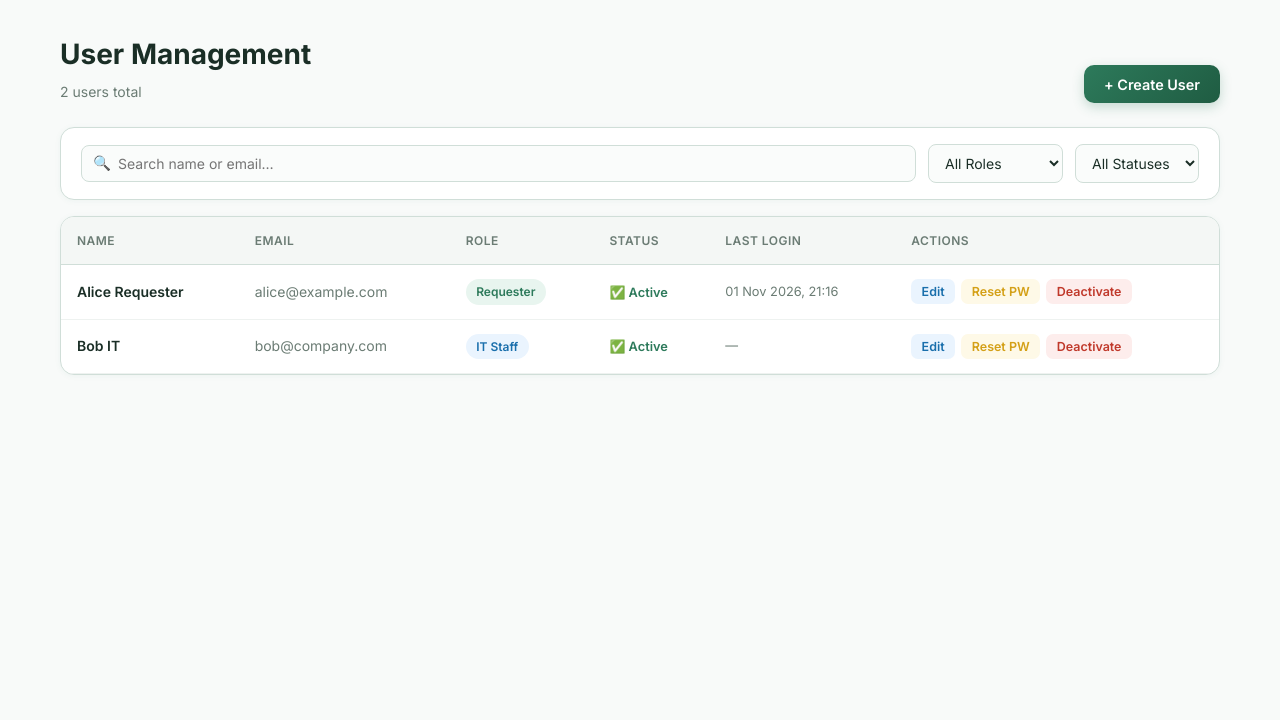
AdminUsersPage (UI-10..UI-12) › UI-12: clicking Deactivate opens the confirmation modal
The width and height of the screenshot is (1280, 720).
Expected: the text "Alice Requester" is shown, [77, 282, 184, 300]
Click the button "Deactivate" in the row of "Alice Requester": {"x": 1089, "y": 292} [1046, 280, 1132, 304]
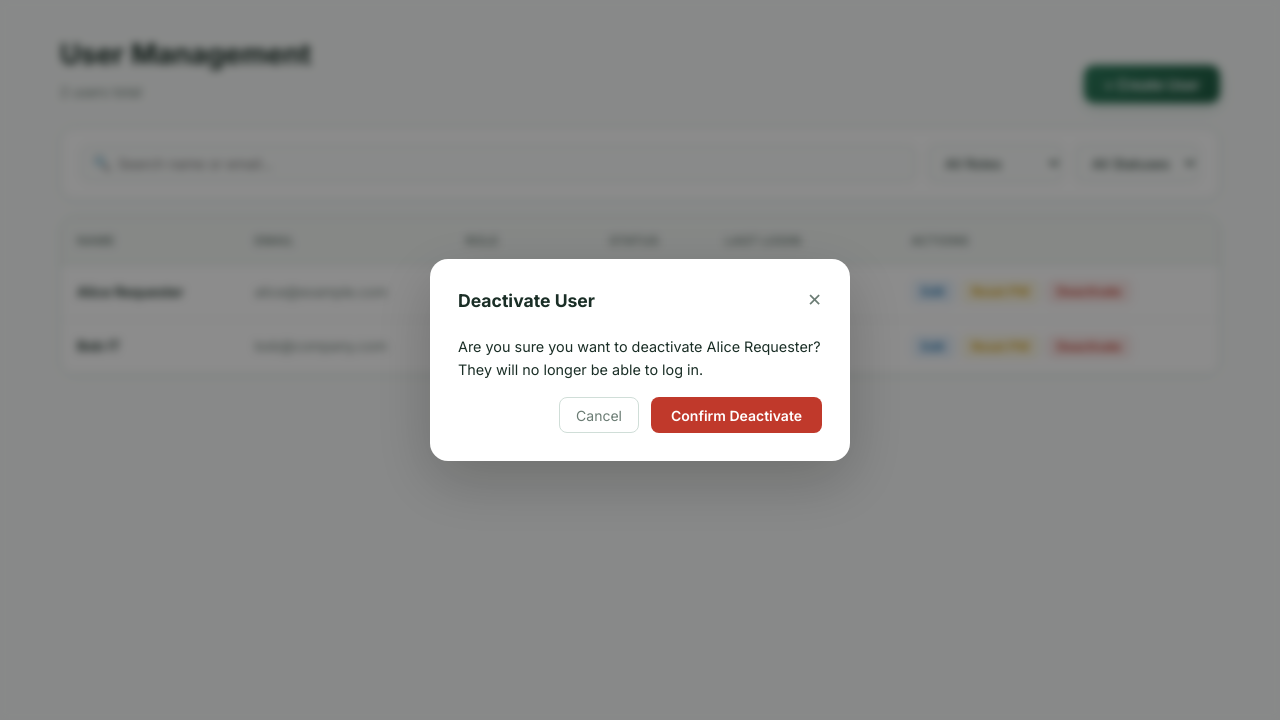
Expected: the heading "Deactivate User" is shown, [458, 287, 595, 315]
Expected: the button "Confirm Deactivate" is shown, [651, 397, 822, 433]
